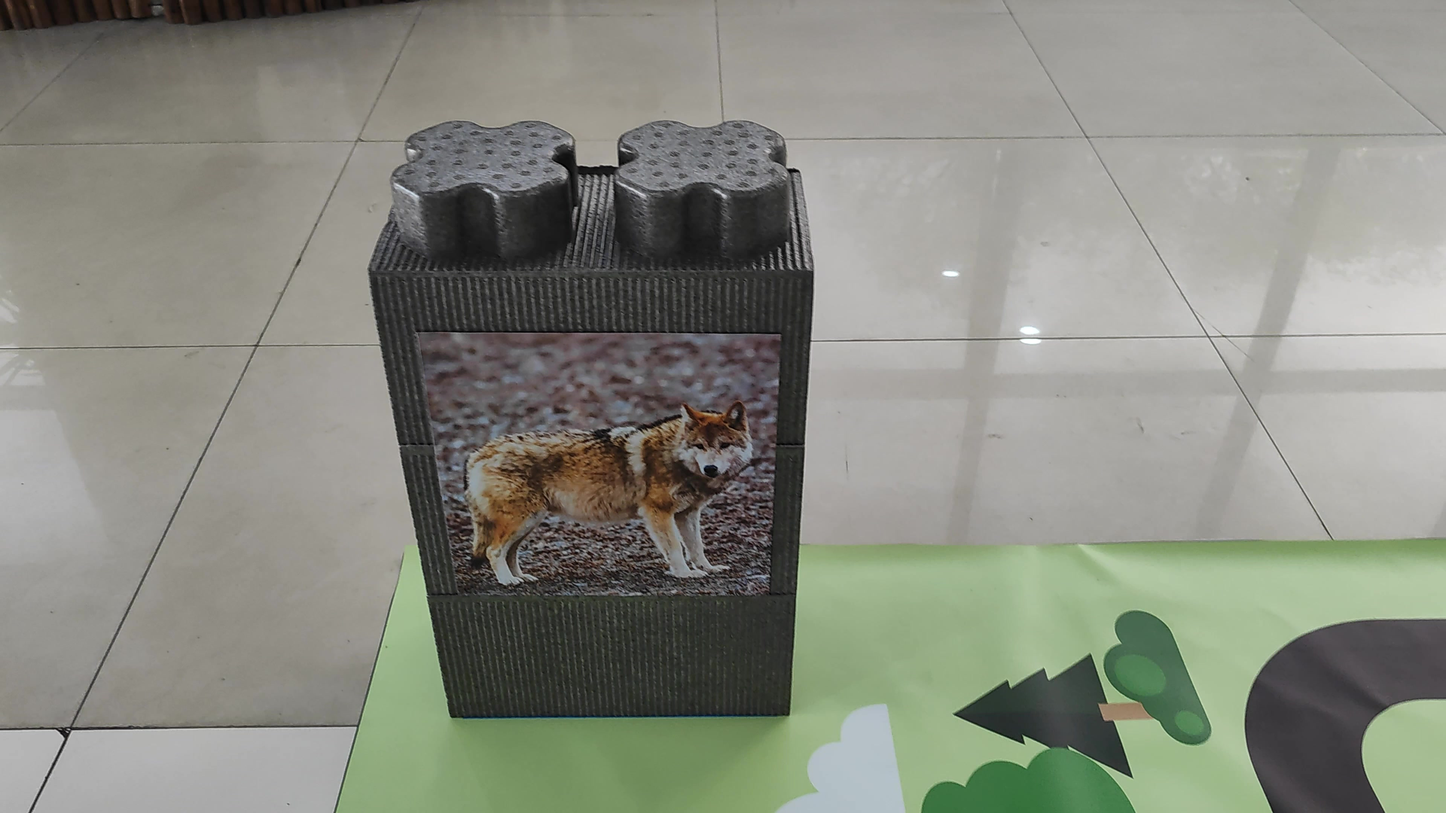wolf: (451, 364, 753, 611)
